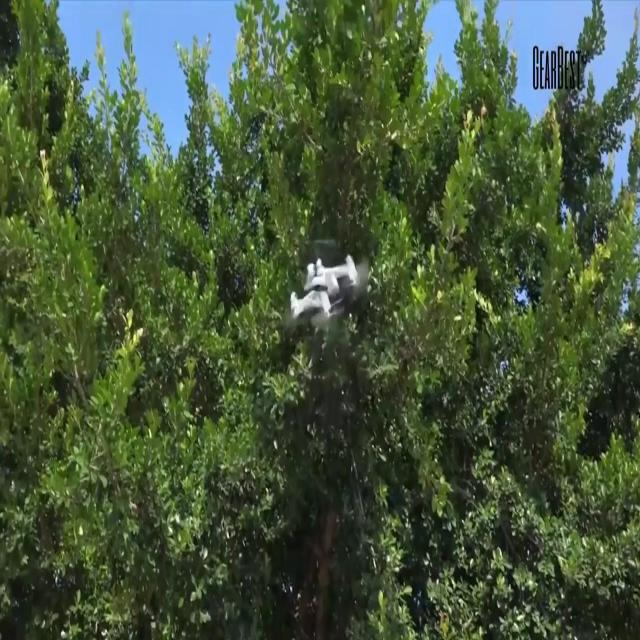UAV: (291, 255, 357, 327)
